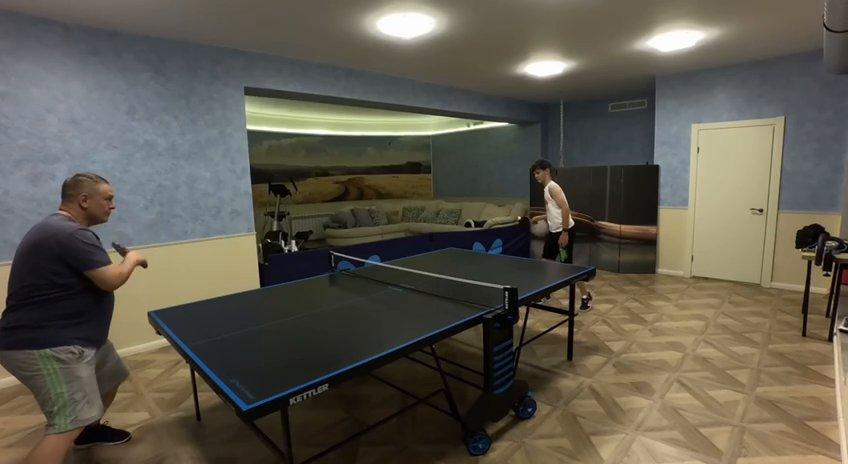Ball: (515, 216, 522, 222)
Net: (327, 251, 515, 308)
Player1: (532, 159, 574, 262)
Player2: (0, 172, 146, 463)
Table: (149, 247, 594, 409)
